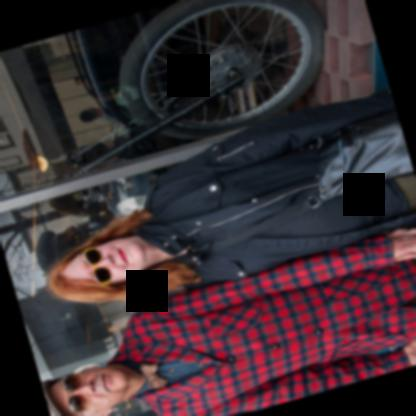handbag: (317, 110, 414, 199)
